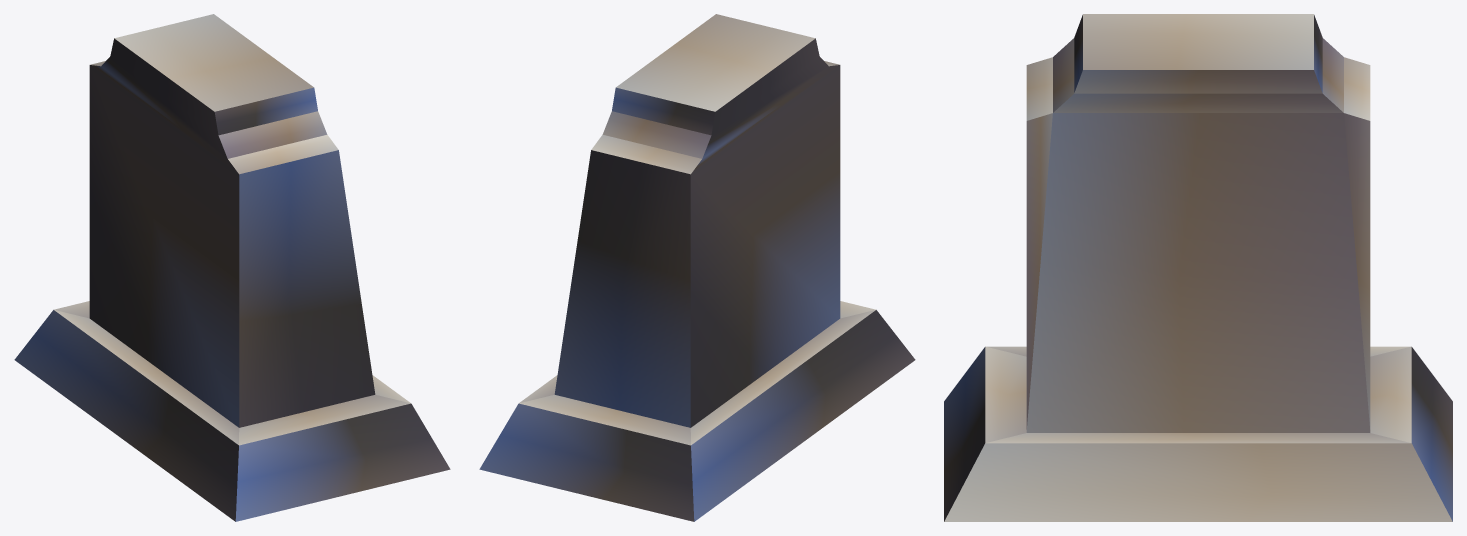
The model's file is tombStone02.fbx.
3 views of the same model, side by side, from view 1: azimuth 30°, elevation 25°; view 2: azimuth 150°, elevation 25°; view 3: azimuth 270°, elevation 25° (orthographic). The views are drawn at different scales.
Parts seen in each view (by area): view 1: tombStone02; view 2: tombStone02; view 3: tombStone02.
Boxes of the visible parts, x1,y1,x2,y2 form: tombStone02: [14, 14, 450, 521]; tombStone02: [479, 14, 915, 521]; tombStone02: [944, 14, 1452, 521].
Bounding box in the file's own units: 78.9 × 125 × 141.
